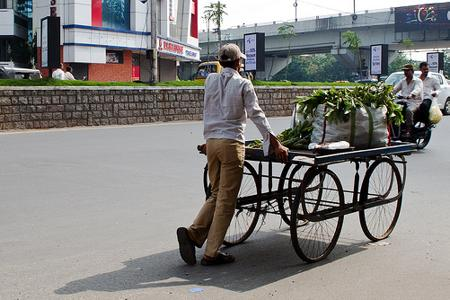person: (177, 43, 287, 269)
